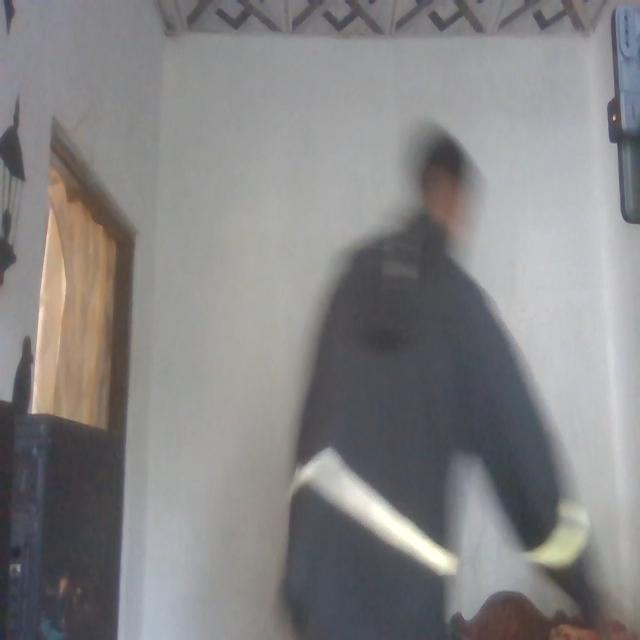Jacket_Wearer: (307, 215, 567, 640)
Person: (285, 100, 623, 640)
